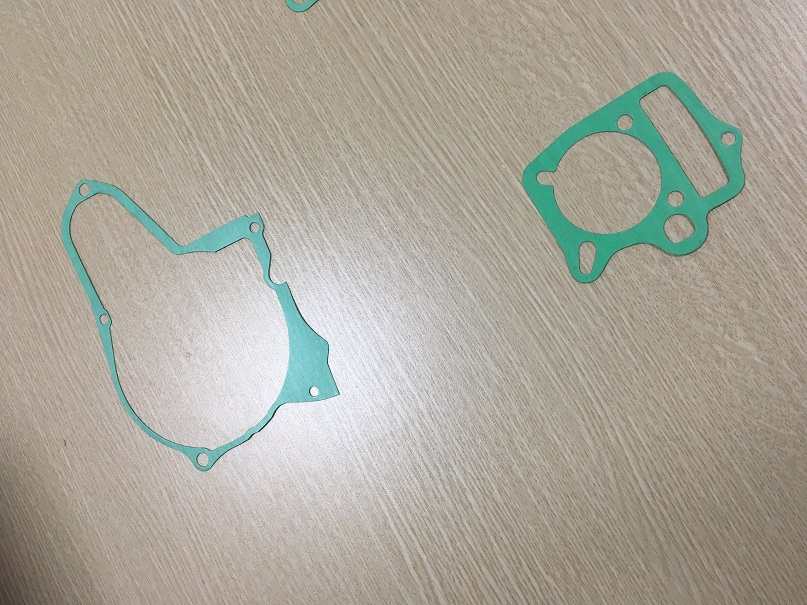type1: (53, 175, 350, 481)
type4: (506, 65, 750, 286)
